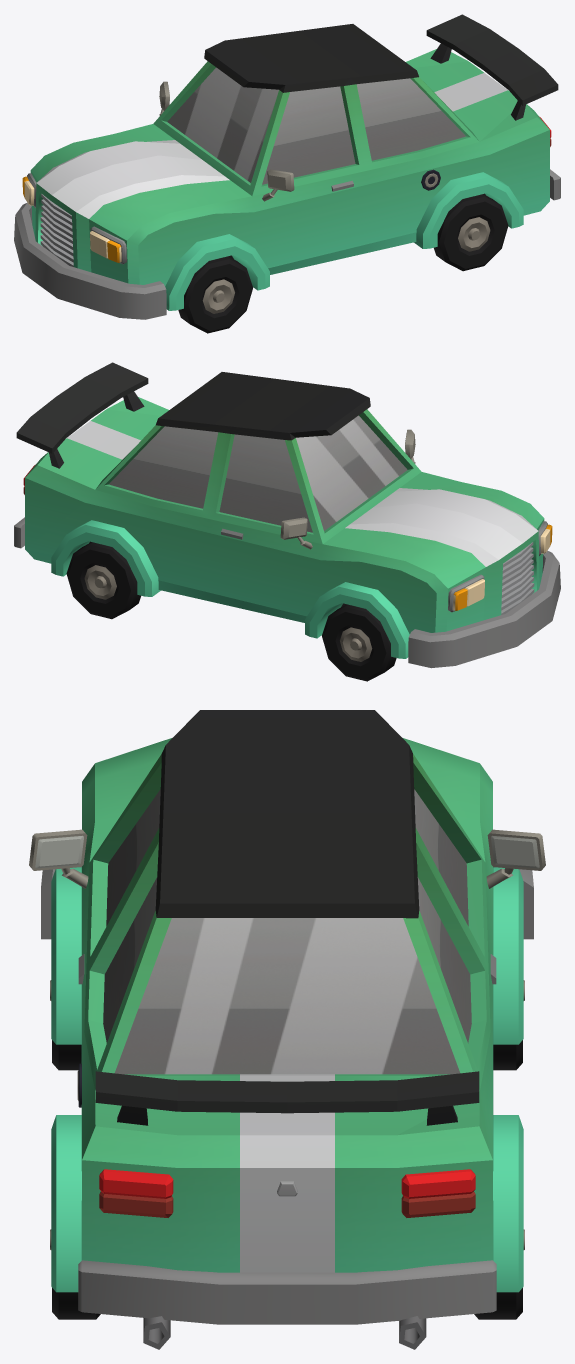
Rendered from Car_1_K.gltf.
3 renders of one model, top to bottom at view 1: azimuth 30°, elevation 25°; view 2: azimuth 150°, elevation 25°; view 3: azimuth 270°, elevation 25°, orthographic. The views are drawn at different scales.
Parts seen in each view (by area): view 1: Car_1_K, RL, FL; view 2: Car_1_K, RR, FR; view 3: Car_1_K, RL, RR, FR, FL.
Boxes of the visible parts, x1,y1,x2,y2 form: Car_1_K: (14,14,560,319); RL: (434,194,508,271); FL: (178,256,252,333); Car_1_K: (14,362,560,668); RR: (66,542,140,619); FR: (322,604,396,681); Car_1_K: (29,710,545,1349); RL: (50,1229,100,1319); RR: (474,1229,524,1319); FR: (493,980,524,1070); FL: (50,980,81,1070).
Size of the model in its own units: 3.64 by 1.5 by 1.7.
4 materials, 4 textured.
